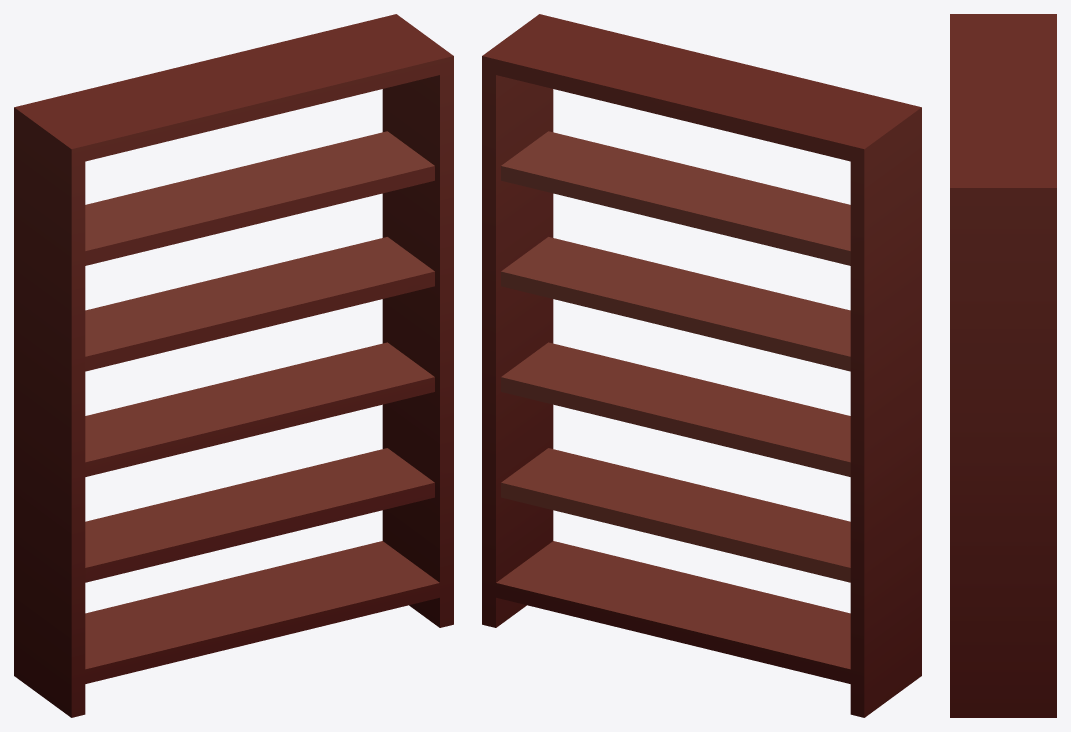
The model's file is SM_Shelf_01.fbx.
3 renders of one model, left to right at view 1: azimuth 30°, elevation 25°; view 2: azimuth 150°, elevation 25°; view 3: azimuth 270°, elevation 25°, orthographic. The views are drawn at different scales.
Parts seen in each view (by area): view 1: SM_Shelf_01; view 2: SM_Shelf_01; view 3: SM_Shelf_01.
Part boxes in pixels (x1,y1,x2,y2): SM_Shelf_01: (14,14,453,717); SM_Shelf_01: (482,14,921,717); SM_Shelf_01: (950,14,1056,717).
Bounding box in the file's own units: 1.25 × 1.78 × 0.3252.
